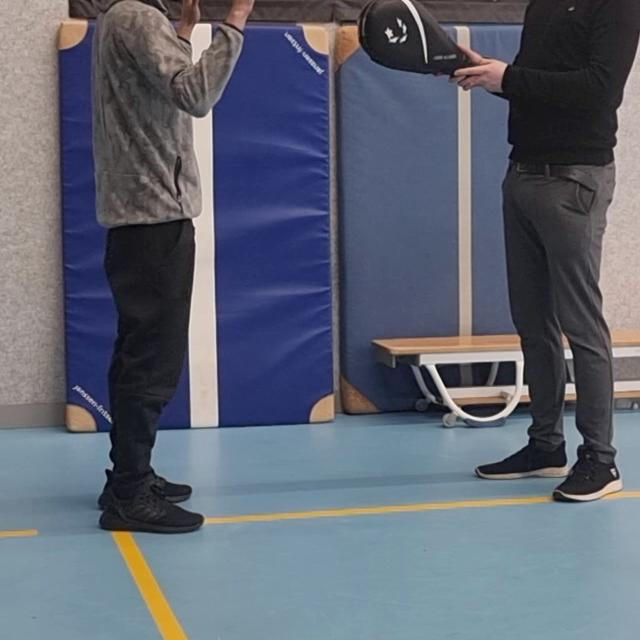paddle: (357, 0, 476, 75)
